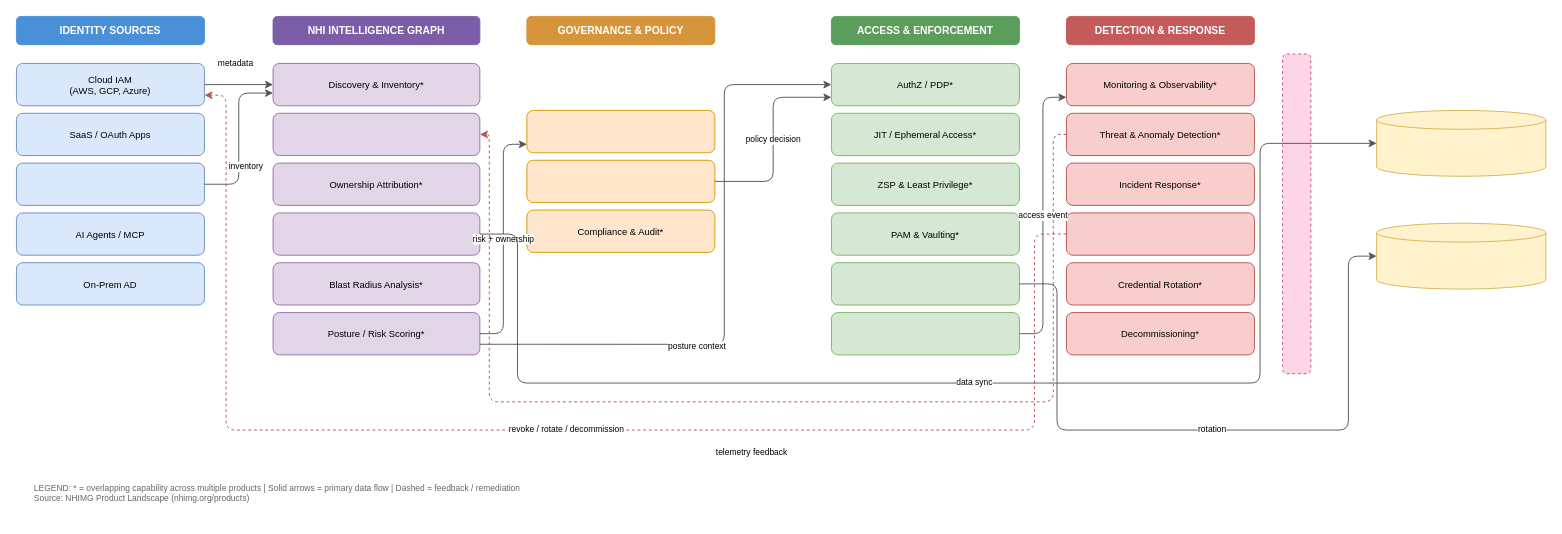
The diagram is 1562 pixels wide and 534 high, and some of its shapes have lost their labels. The box of each missing label's shape, as (x1, y1, x2, y2) in pixels:
AAM OVERLAY: (1282, 53, 1311, 374)
CI/CD & Secrets: (16, 162, 204, 205)
Classification & Context*: (272, 112, 480, 156)
Identity Graph & Lineage*: (272, 212, 480, 255)
IGA & Lifecycle Gov*: (526, 110, 715, 153)
Policy-as-Code*: (526, 159, 715, 203)
Remediation Orchestration*: (1065, 212, 1254, 255)
Secrets & Cert Lifecycle*: (830, 262, 1019, 305)
Workload ID / mTLS*: (830, 312, 1019, 355)
